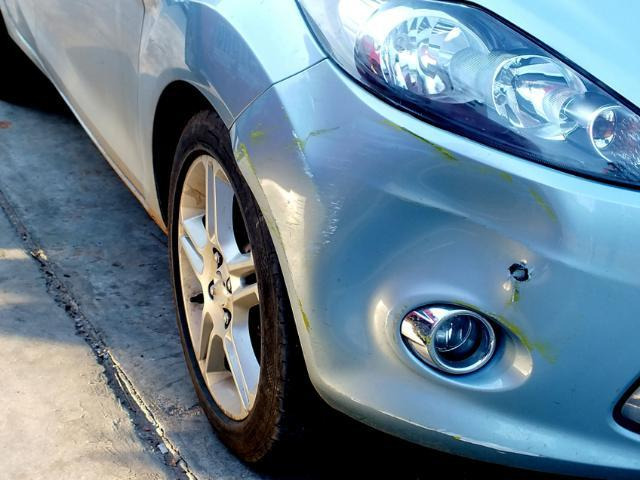Bumper: (231, 64, 626, 463)
